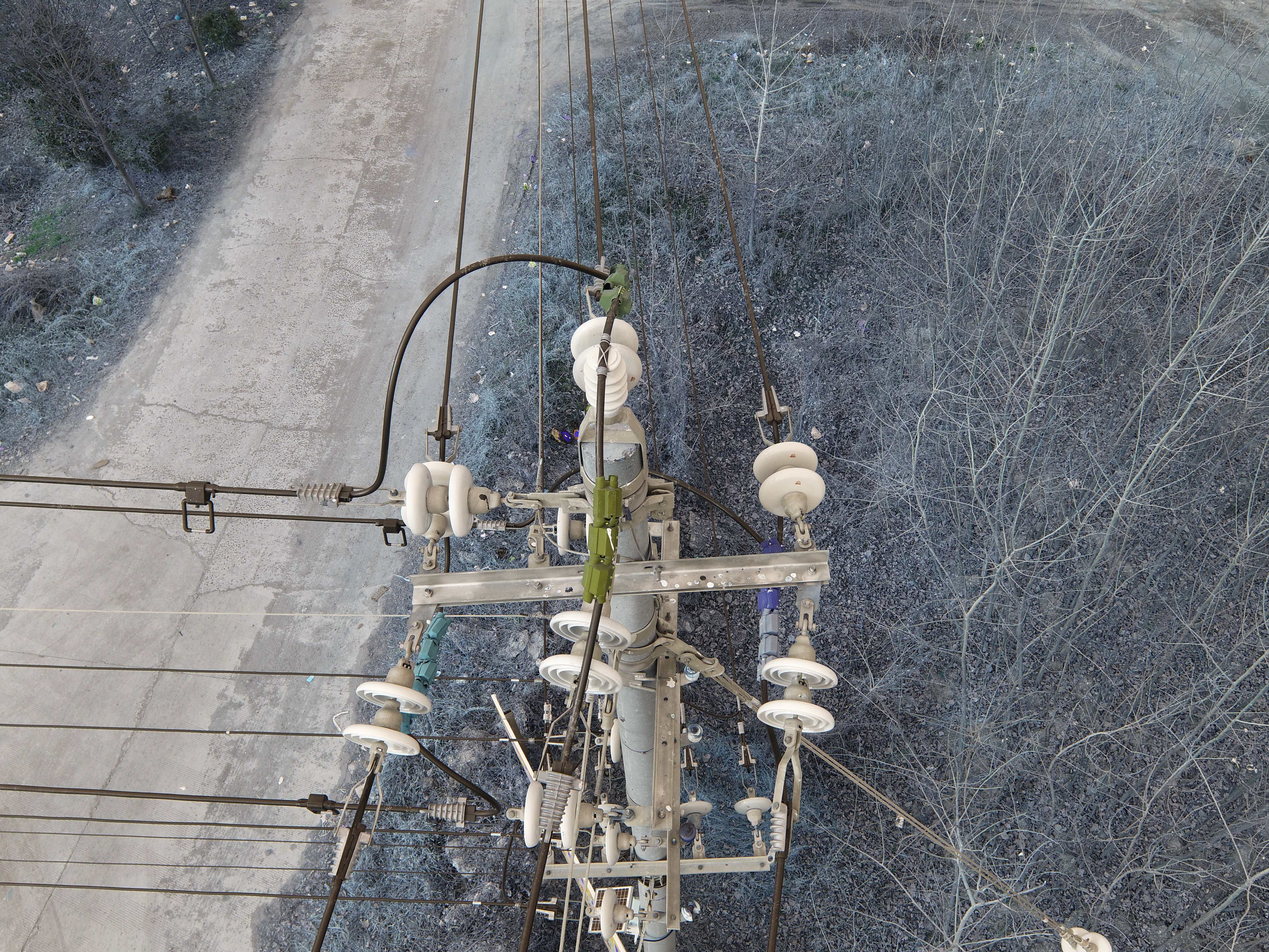severe_soiling_no_discharge_whole: (684, 663, 702, 681)
